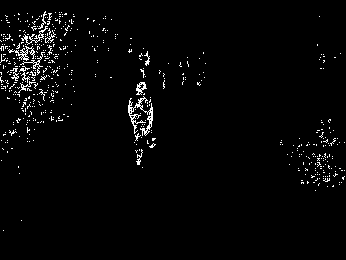person: (127, 80, 155, 167)
